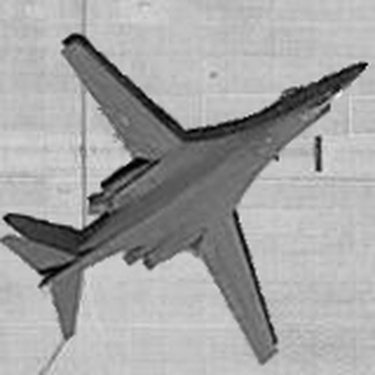airplane: (1, 18, 370, 367)
